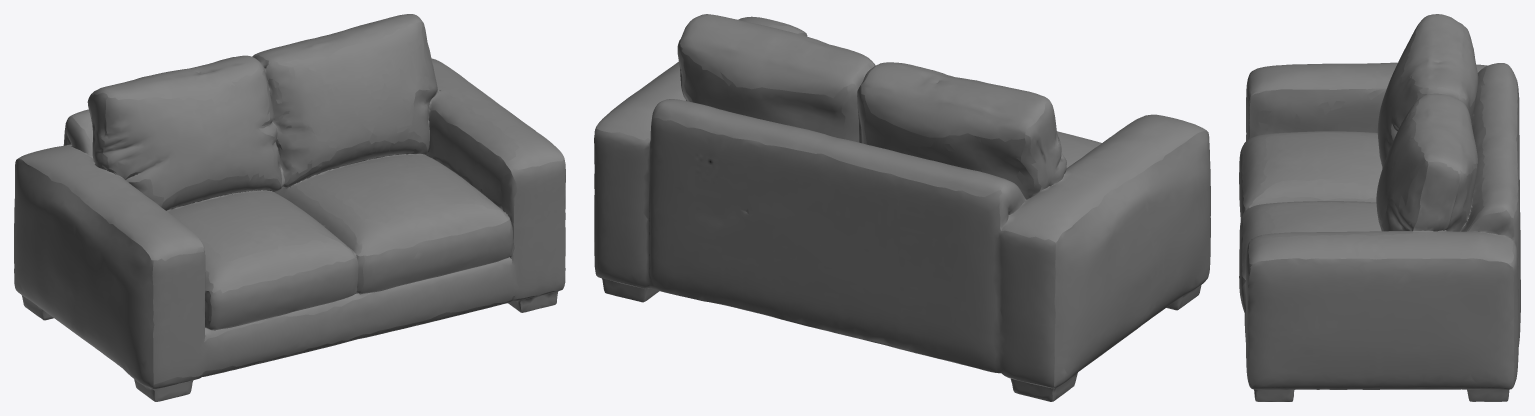
File: completion_sofa_0.glb
The picture shows the model from 3 angles, left to right: view 1: azimuth 30°, elevation 25°; view 2: azimuth 150°, elevation 25°; view 3: azimuth 270°, elevation 25°; orthographic projection. The views are drawn at different scales.
Parts seen in each view (by area): view 1: geometry_0; view 2: geometry_0; view 3: geometry_0.
Boxes of the visible parts, x1=… form: geometry_0: x1=14, y1=14, x2=565, y2=401; geometry_0: x1=594, y1=14, x2=1210, y2=401; geometry_0: x1=1239, y1=14, x2=1520, y2=401.
Bounding box in the file's own units: 1 × 0.5132 × 0.5882.
1 material, 1 textured.
